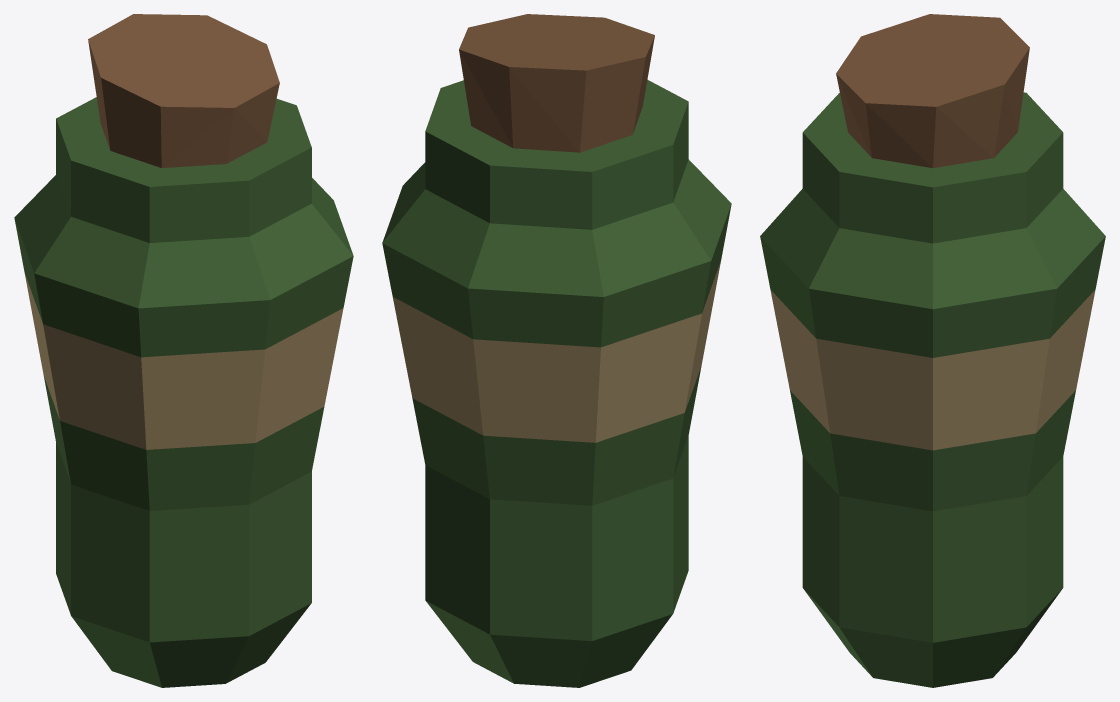
The model's file is SM_Item_Potion_03.gltf.
The picture shows the model from 3 angles, left to right: view 1: azimuth 30°, elevation 25°; view 2: azimuth 150°, elevation 25°; view 3: azimuth 270°, elevation 25°; orthographic projection. The views are drawn at different scales.
Visible parts, largest first — view 1: SM_Item_Potion_03; view 2: SM_Item_Potion_03; view 3: SM_Item_Potion_03.
Boxes of the visible parts, x1,y1,x2,y2 form: SM_Item_Potion_03: [14, 14, 353, 687]; SM_Item_Potion_03: [382, 14, 731, 687]; SM_Item_Potion_03: [760, 14, 1105, 687].
Bounding box in the file's own units: 0.1435 × 0.2769 × 0.1435.
1 material, 1 textured.
